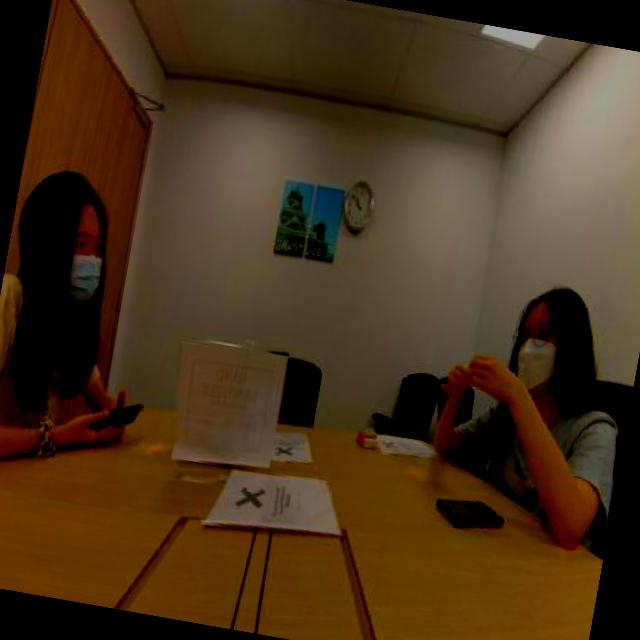Person: (459, 250, 628, 516), (0, 133, 145, 436)
